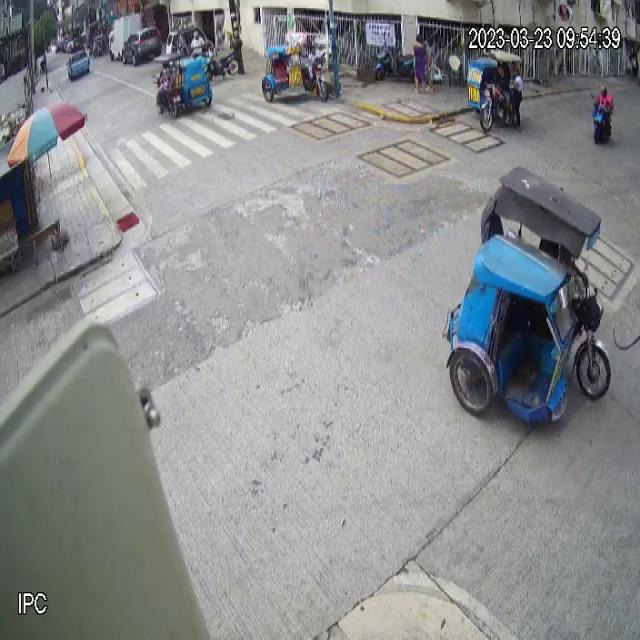Tricycle: (443, 164, 611, 426), (468, 50, 522, 132), (152, 52, 214, 119), (262, 43, 330, 104)
